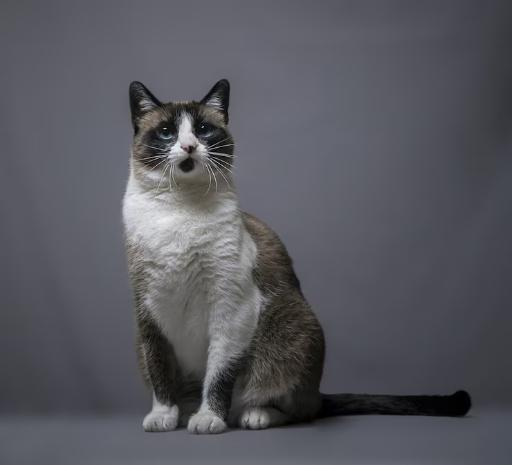cat_sitting: (122, 80, 470, 434)
